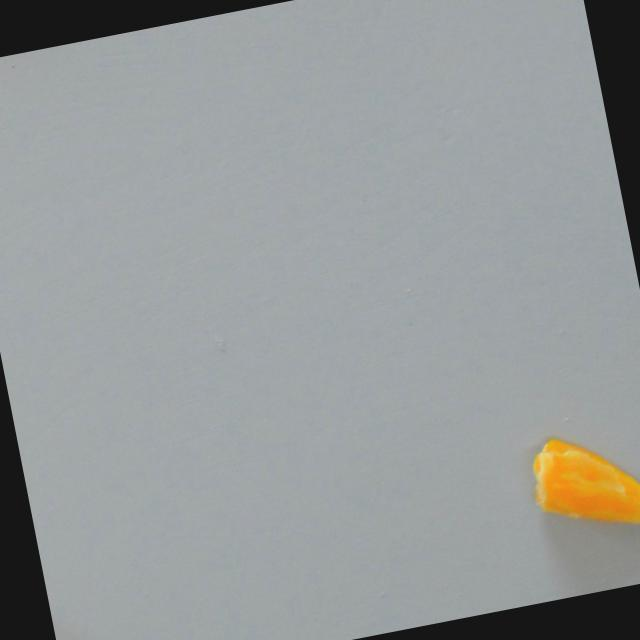pelicula: (521, 417, 640, 554)
